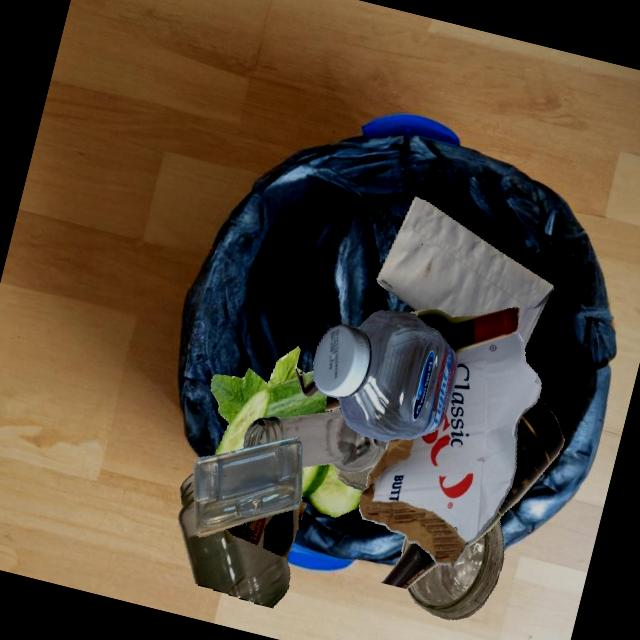biowaste: (210, 367, 294, 455), (301, 464, 363, 517)
cardboard: (358, 332, 541, 568), (225, 501, 306, 558), (336, 465, 374, 490), (294, 367, 318, 397)
glass: (177, 472, 289, 608), (467, 396, 564, 546), (407, 519, 503, 619), (243, 407, 388, 472), (408, 306, 519, 355), (379, 542, 438, 589)
paper: (376, 196, 553, 349)
plastic: (313, 310, 457, 441), (192, 437, 302, 537)
